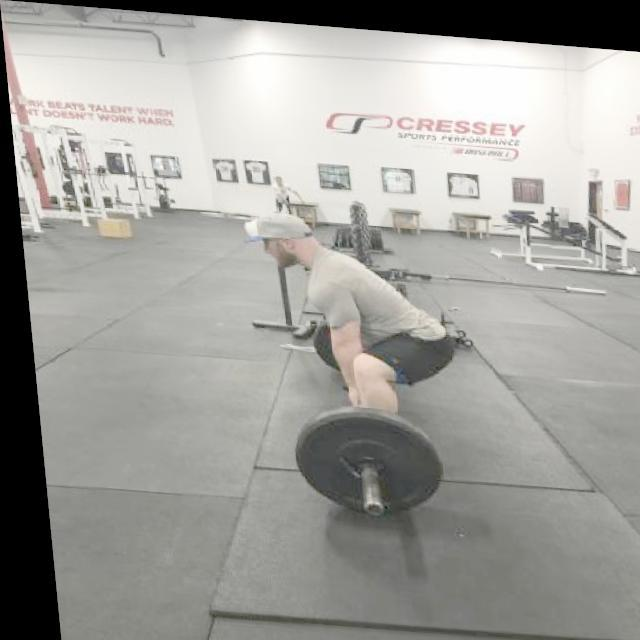barbell: (280, 395, 443, 525)
